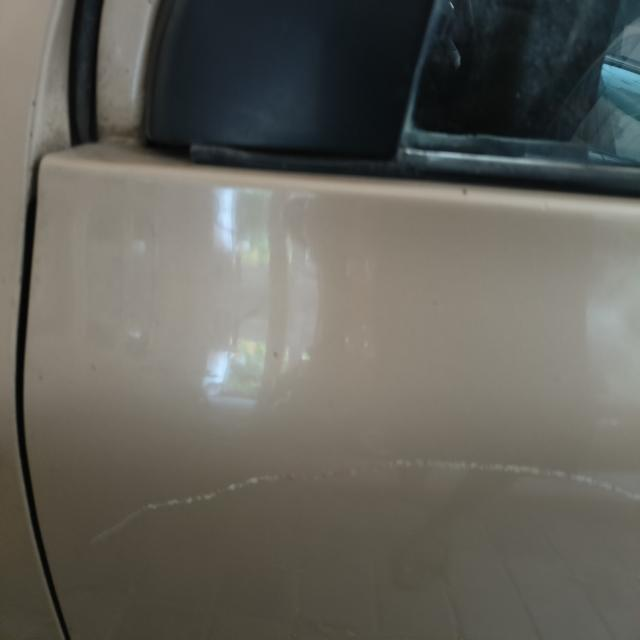scratch: (87, 455, 638, 568)
